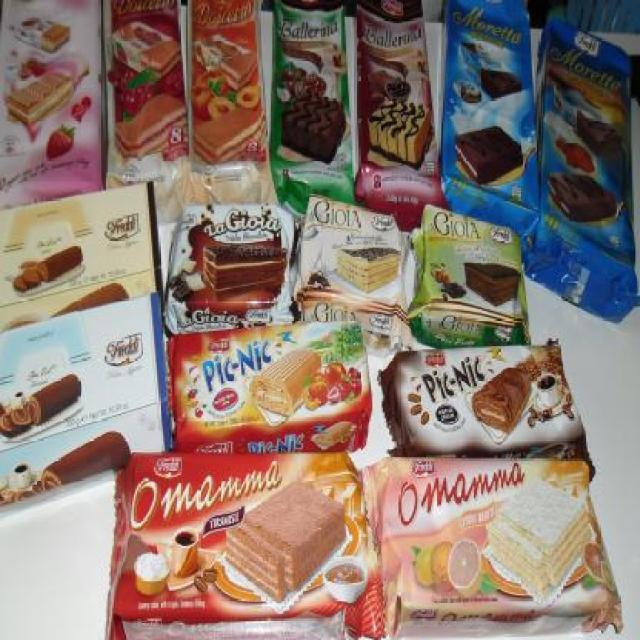Merendine: (107, 449, 385, 640), (370, 456, 624, 628), (1, 290, 162, 506), (538, 17, 636, 326), (167, 318, 378, 454), (388, 342, 600, 464), (1, 179, 164, 333), (438, 1, 536, 232), (353, 1, 450, 224), (1, 2, 105, 195), (106, 0, 189, 209), (188, 1, 272, 207), (272, 1, 356, 204), (296, 199, 412, 341), (409, 216, 534, 344), (162, 205, 296, 323)
